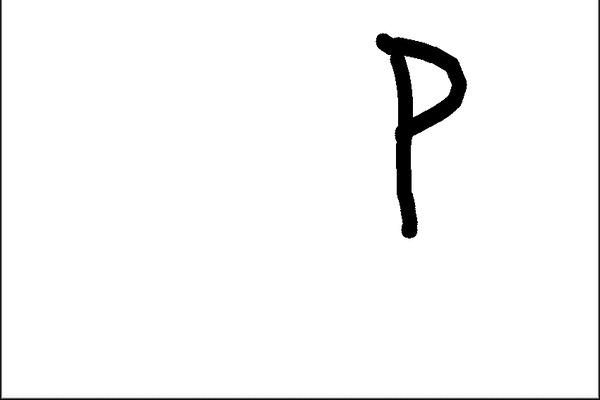P: (360, 23, 486, 252)
